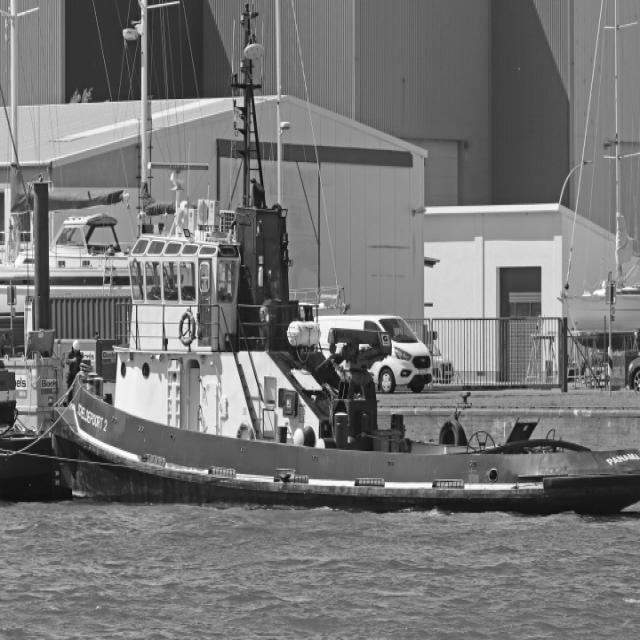tugboat: (50, 175, 640, 529)
